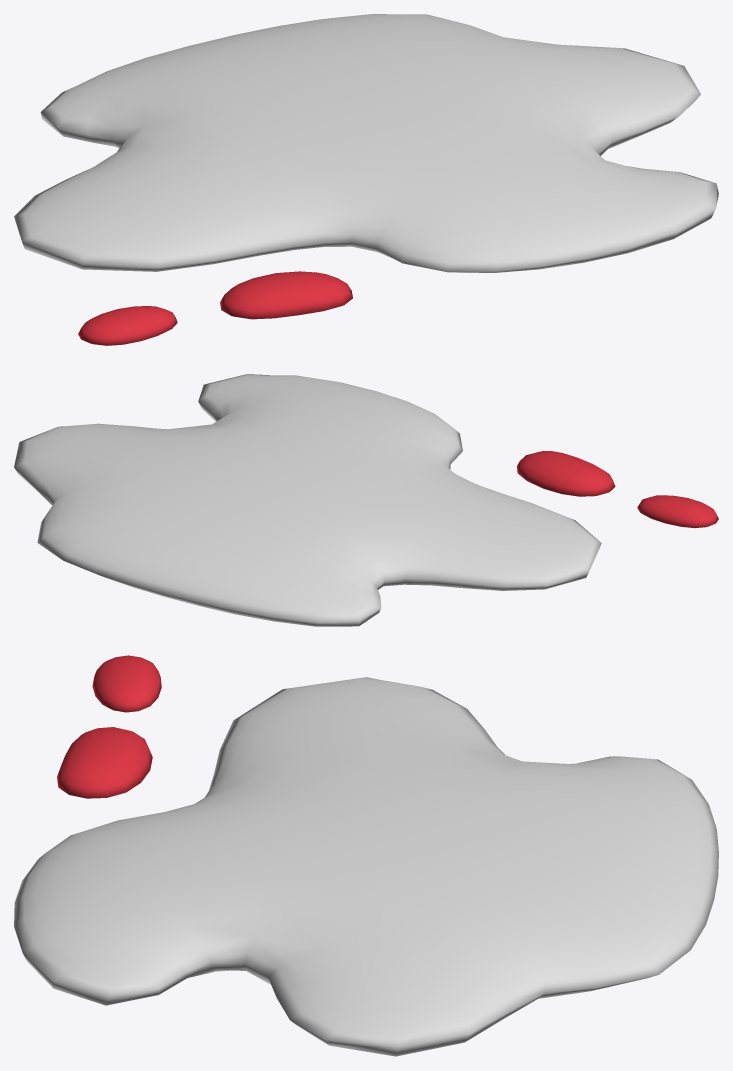
File: Mess_Milk.fbx
The picture shows the model from 3 angles, top to bottom: view 1: azimuth 30°, elevation 25°; view 2: azimuth 150°, elevation 25°; view 3: azimuth 270°, elevation 25°; orthographic projection. The views are drawn at different scales.
Parts seen in each view (by area): view 1: Mess_Milk; view 2: Mess_Milk; view 3: Mess_Milk.
Boxes of the visible parts, x1,y1,x2,y2 form: Mess_Milk: (14,14,718,345); Mess_Milk: (14,374,718,626); Mess_Milk: (14,655,718,1056).
Bounding box in the file's own units: 54.79 × 3.48 × 41.15.
